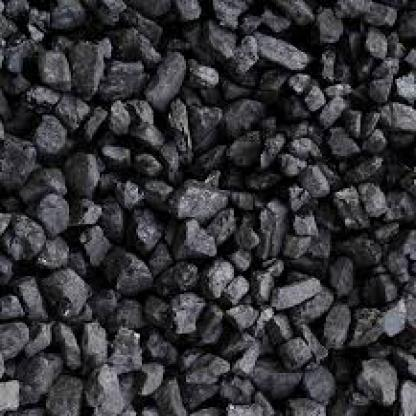Sedimentary_coal: (157, 177, 230, 226), (142, 36, 186, 106), (69, 34, 109, 100), (40, 267, 96, 314), (255, 30, 311, 76), (26, 188, 78, 235), (263, 271, 320, 312), (296, 353, 340, 402), (356, 355, 401, 402), (334, 179, 387, 217), (320, 301, 361, 346), (33, 49, 71, 92), (374, 97, 414, 133), (79, 326, 113, 366), (69, 152, 104, 190)
